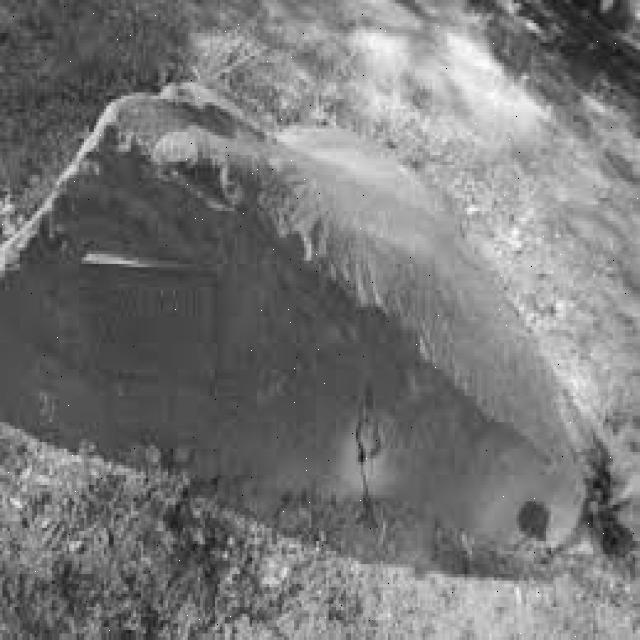Metamorphic: (2, 76, 613, 564)
